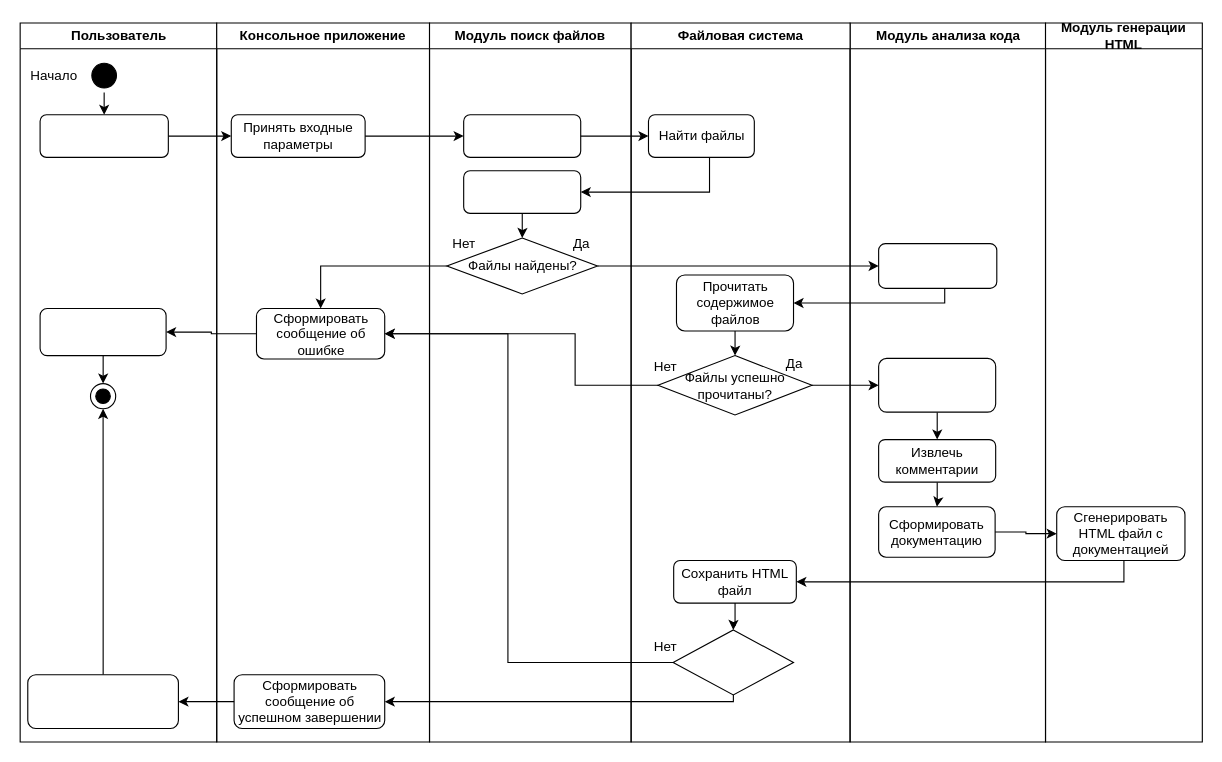
The diagram is 1222 pixels wide and 762 high, and some of its shapes have lost their labels. Each missing label, with the centre of its shape:
"Запуск генерации" goes at pixel 103 135.
"Начать анализ файлов" goes at pixel 937 265.
"Начать поиск файлов" goes at pixel 522 135.
"Определить классы и функции" goes at pixel 937 384.
"Получить сообщение об ошибке" goes at pixel 102 331.
"Получить сообщение об успешном завершении" goes at pixel 102 701.
"Сформировать список файлов" goes at pixel 522 191.
"Файл успешно сохранен?" goes at pixel 733 662.
